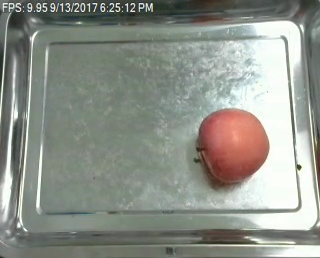Apple: (195, 107, 270, 187)
